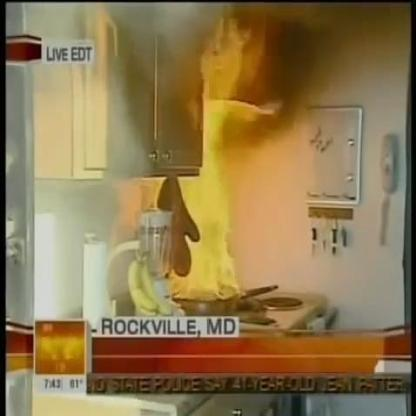fire: (162, 94, 262, 305)
